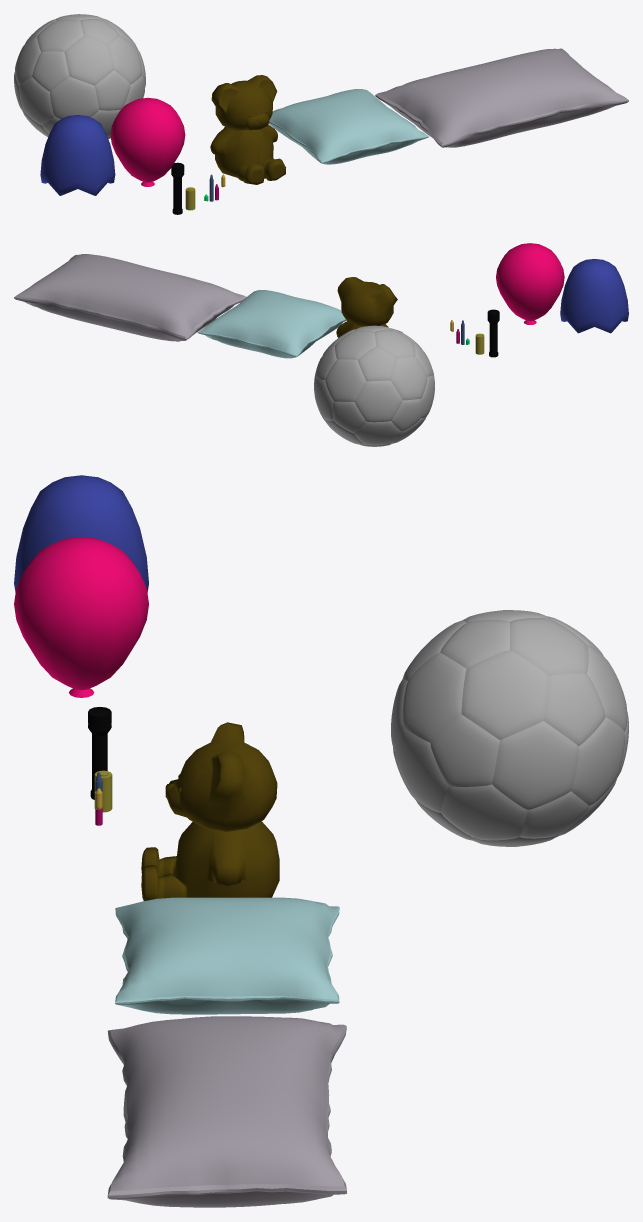
Rendered from Assets.fbx.
The picture shows the model from 3 angles, top to bottom: view 1: azimuth 30°, elevation 25°; view 2: azimuth 150°, elevation 25°; view 3: azimuth 270°, elevation 25°; orthographic projection. The views are drawn at different scales.
Parts seen in each view (by area): view 1: AlmohadaG, Pelota, AlmohadaC, Osito, Globo, GloboFantasmin, Linterna; view 2: AlmohadaG, Pelota, AlmohadaC, Globo, GloboFantasmin, Osito, Linterna; view 3: Pelota, AlmohadaG, AlmohadaC, Osito, Globo, GloboFantasmin, Linterna.
Boxes of the visible parts, x1,y1,x2,y2 form: AlmohadaG: (375,48,628,147); Pelota: (14,14,145,139); AlmohadaC: (268,89,428,164); Osito: (210,75,285,184); Globo: (110,97,185,186); GloboFantasmin: (40,115,115,195); Linterna: (171,162,184,214); AlmohadaG: (14,254,246,341); Pelota: (314,325,434,446); AlmohadaC: (197,290,346,358); Globo: (496,243,564,324); GloboFantasmin: (560,259,628,333); Osito: (336,277,402,337); Linterna: (487,309,499,357); Pelota: (391,610,628,846); AlmohadaG: (107,1016,346,1207); AlmohadaC: (115,897,339,1014); Osito: (141,722,279,900); Globo: (14,537,148,697); GloboFantasmin: (14,475,148,592); Linterna: (88,707,111,799).
Bounding box in the file's own units: 2.03 × 0.4927 × 1.01.
